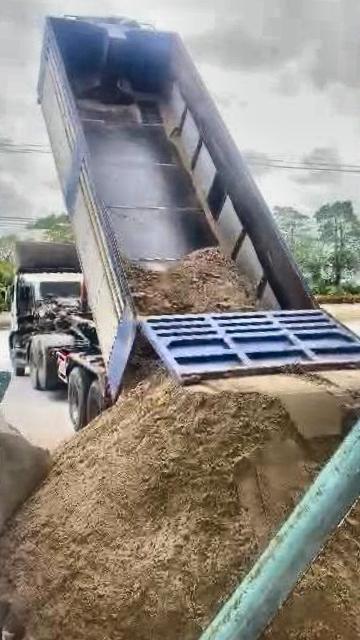sand: (0, 372, 332, 640), (231, 469, 360, 640), (190, 370, 360, 458), (127, 248, 257, 314), (0, 422, 51, 537), (124, 337, 155, 387)
